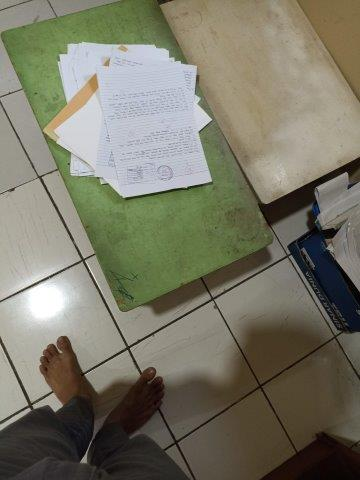kertas: (42, 42, 212, 197)
